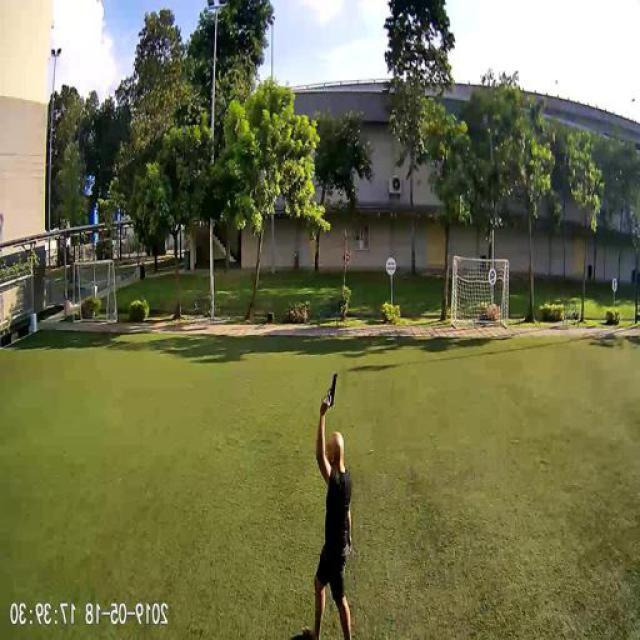weapon: (320, 368, 340, 413)
